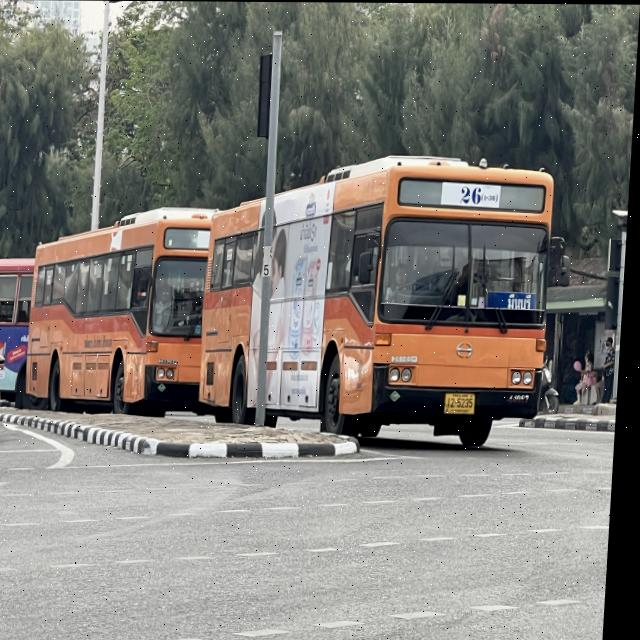BMTA-bus: (197, 145, 565, 452), (26, 198, 221, 422)
Bus Line Number: (441, 180, 504, 207)
Bus Side Number: (508, 390, 537, 405)
Destination Sign: (491, 290, 543, 310)
